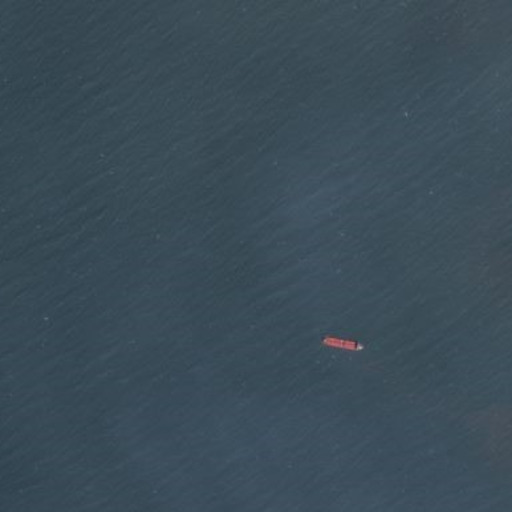ship: (318, 332, 367, 358)
